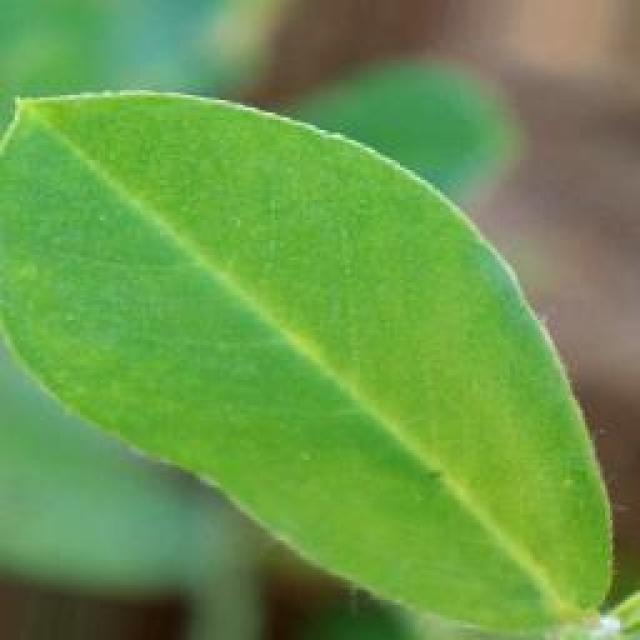Yellow_and_black_sigatoka: (0, 89, 621, 616)
